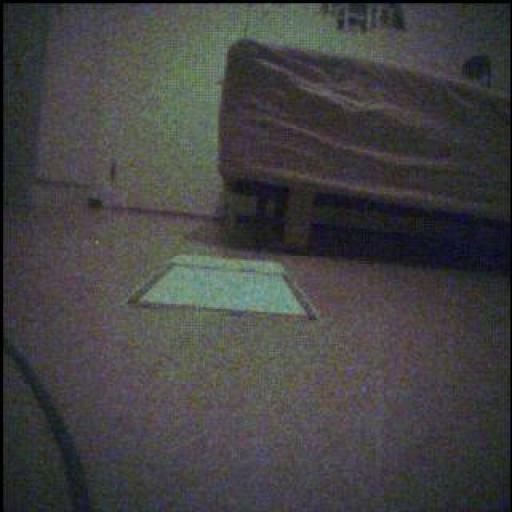pad: (131, 256, 318, 320)
